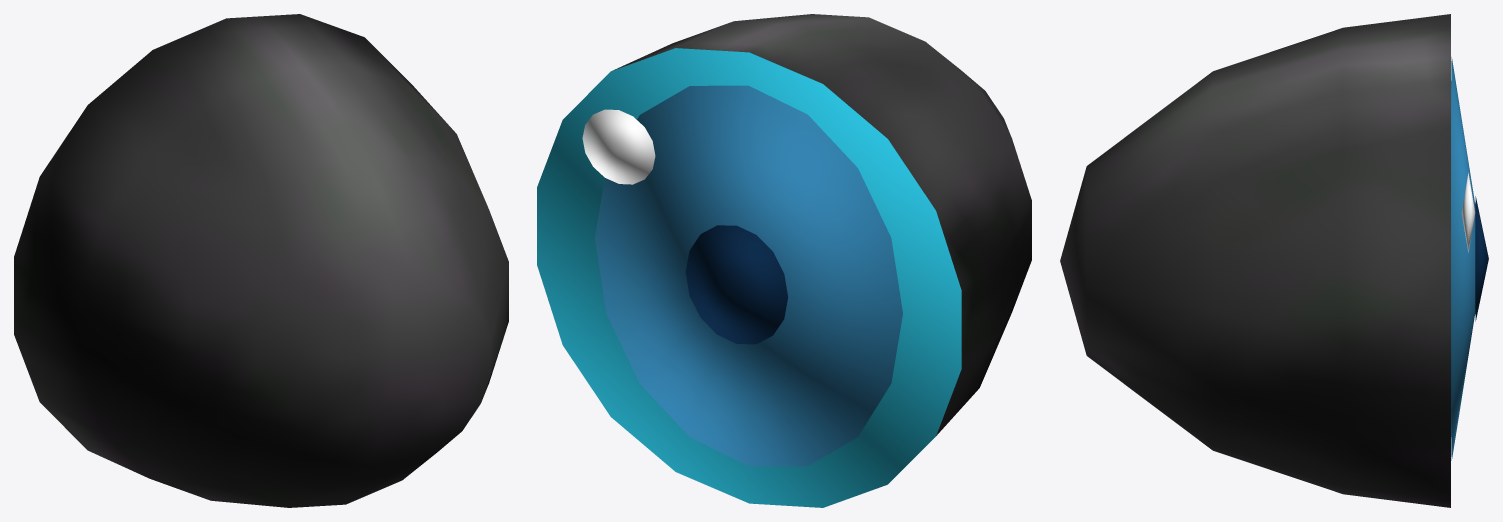
Rendered from light_r.fbx.
3 views of the same model, side by side, from view 1: azimuth 30°, elevation 25°; view 2: azimuth 150°, elevation 25°; view 3: azimuth 270°, elevation 25° (orthographic).
Parts seen in each view (by area): view 1: light_r; view 2: light_r; view 3: light_r.
Boxes of the visible parts, x1=… form: light_r: x1=14, y1=14, x2=508, y2=507; light_r: x1=537, y1=14, x2=1031, y2=507; light_r: x1=1060, y1=14, x2=1488, y2=507.
Size of the model in its own units: 0.1809 by 0.1836 by 0.1588.
